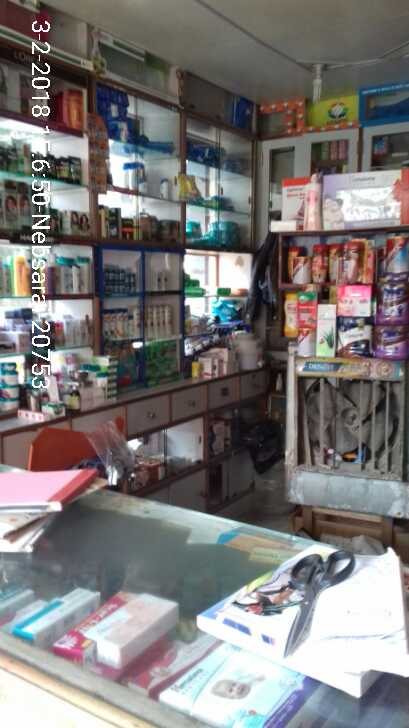vicks: (98, 261, 145, 297)
